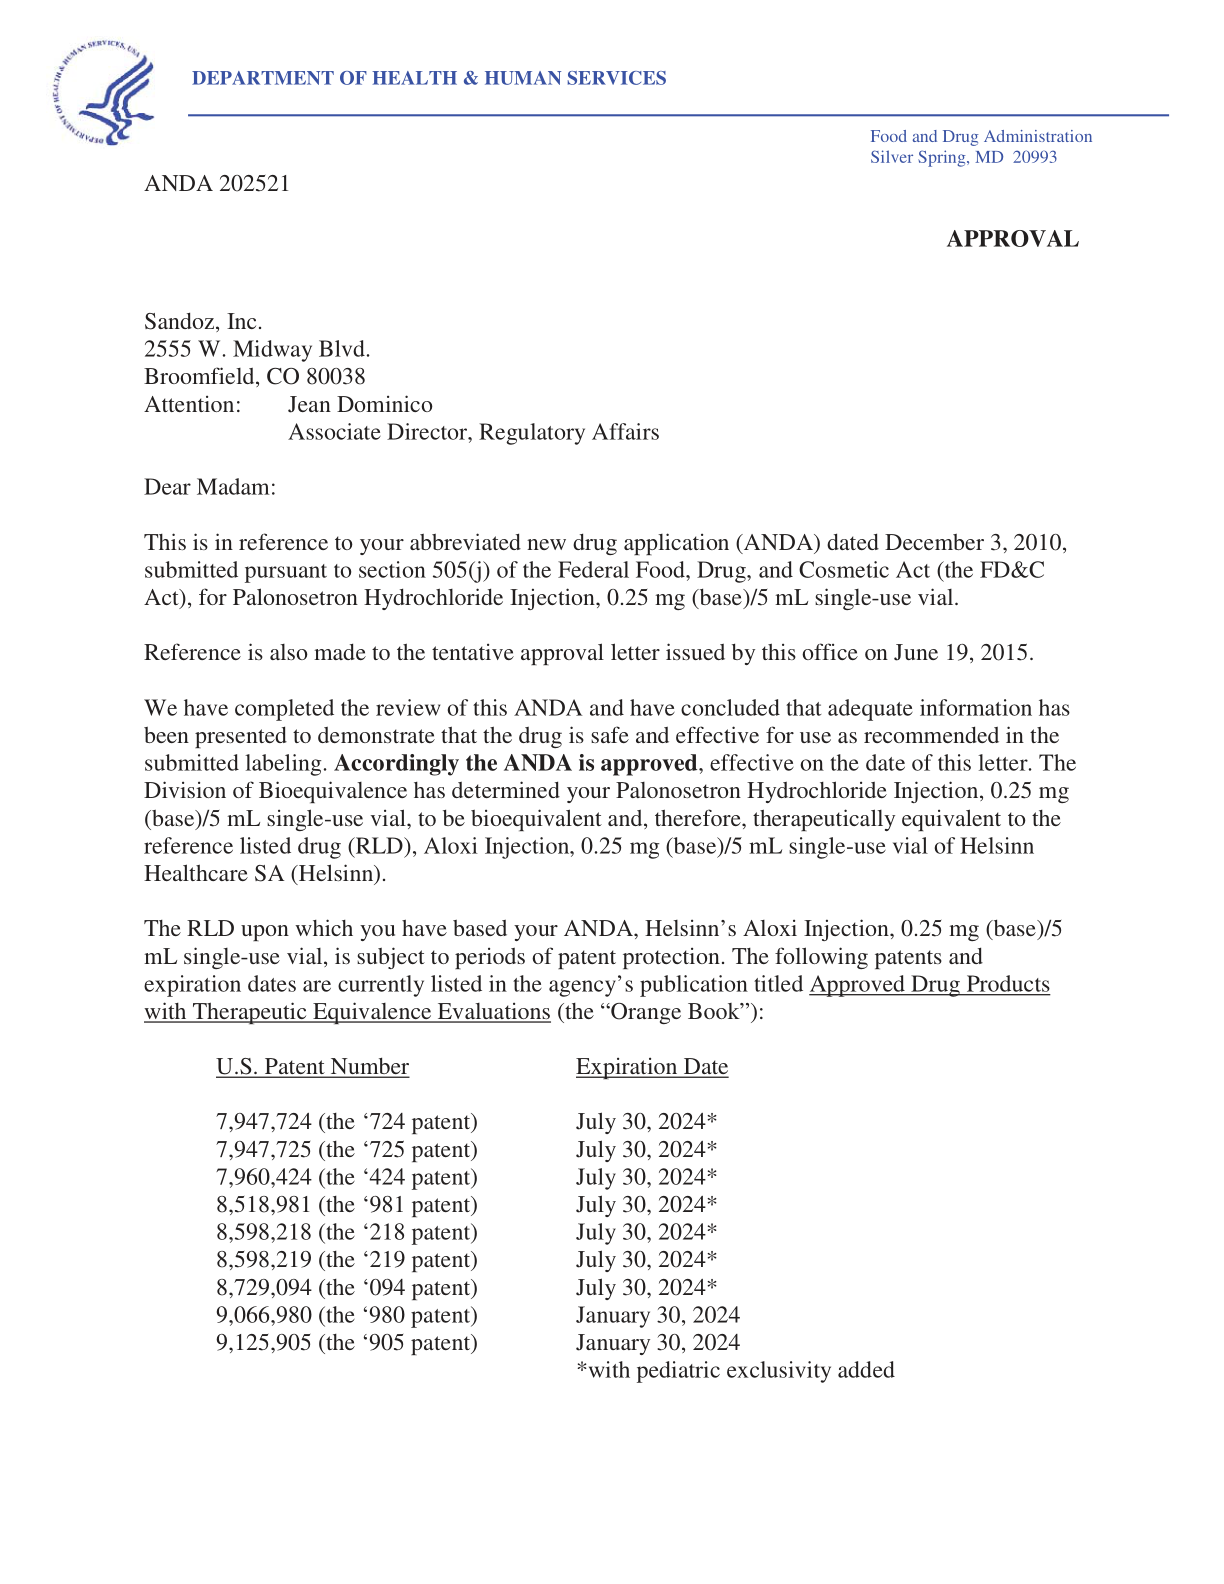nolines: (208, 1052, 741, 1355)
